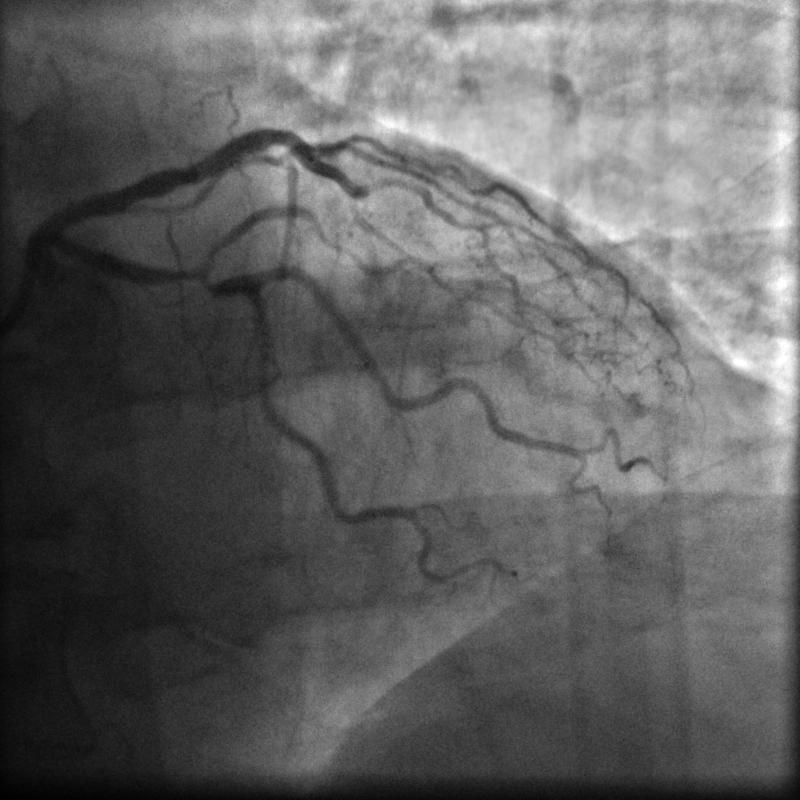Stenosis: (167, 263, 215, 288)
